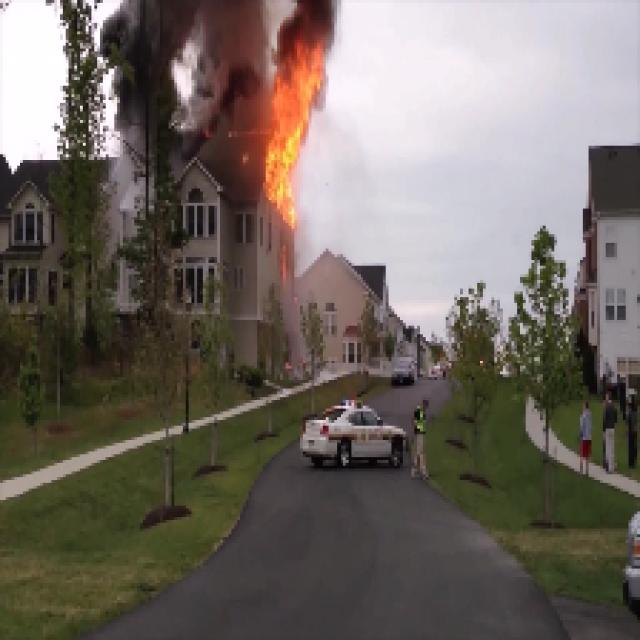fire: (267, 48, 325, 228)
smoke: (113, 2, 256, 167), (262, 3, 337, 40)
